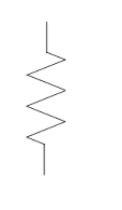resistor: (15, 38, 71, 161)
